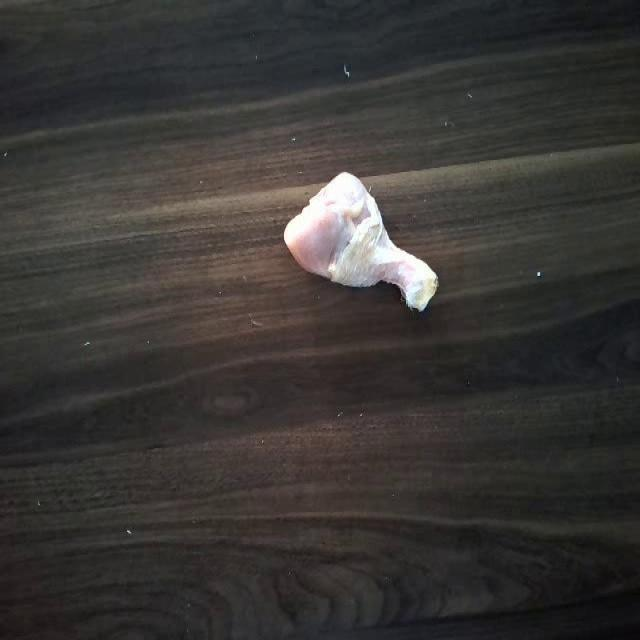leg: (284, 165, 442, 332)
